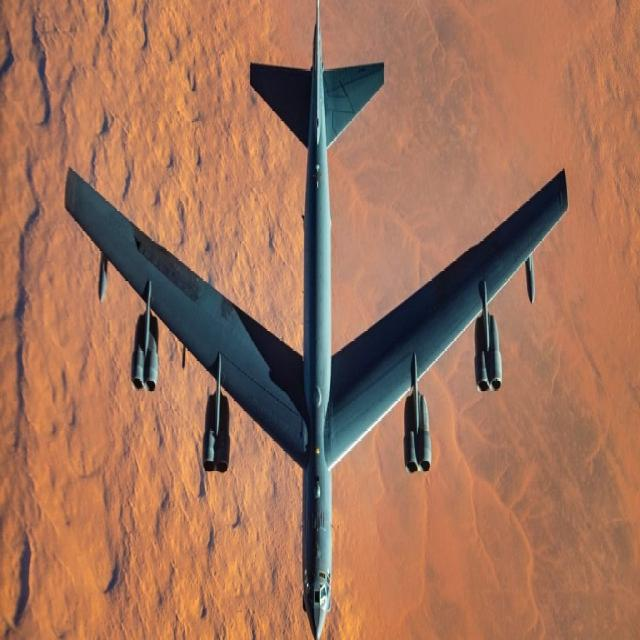B52: (52, 14, 622, 640)
